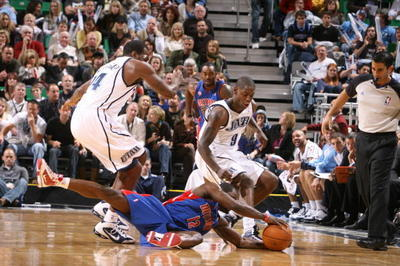10+: (3, 1, 398, 249)
down: (115, 178, 241, 248)
